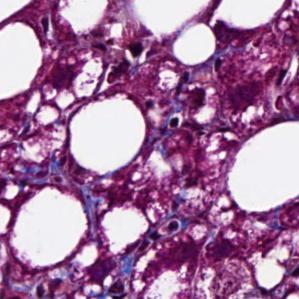inflammation: (180, 82, 222, 127), (134, 217, 182, 254), (103, 52, 142, 90)
